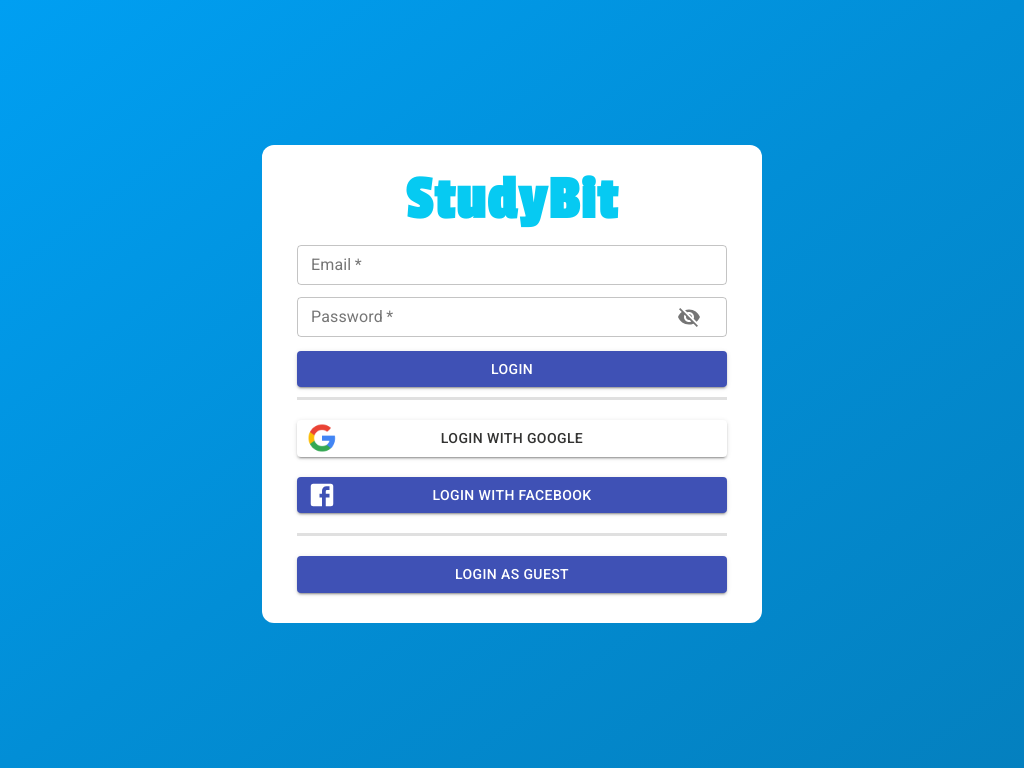
Test: AuthForm › email input › should show error when email is invalid
Type "invalidEmail.com" into the field labelled "Email *".
click(512, 265); type("invalidEmail.com")  # box x1=297 y1=245 x2=727 y2=285
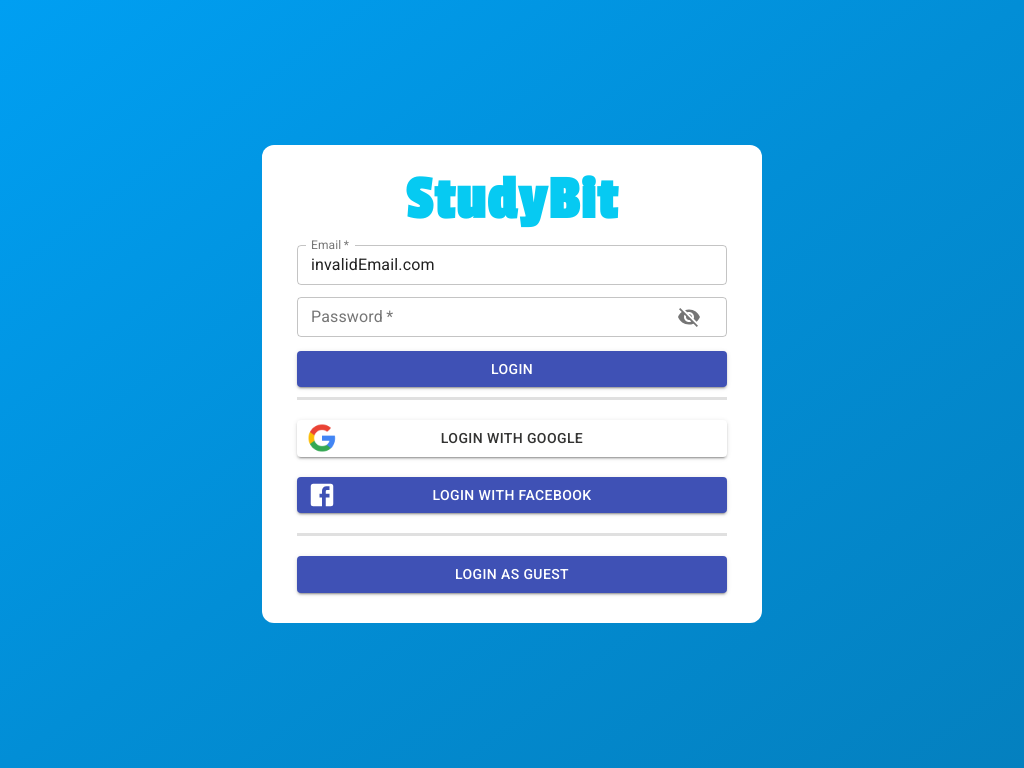
Leave the field labelled "Email *", box x1=297 y1=245 x2=727 y2=285
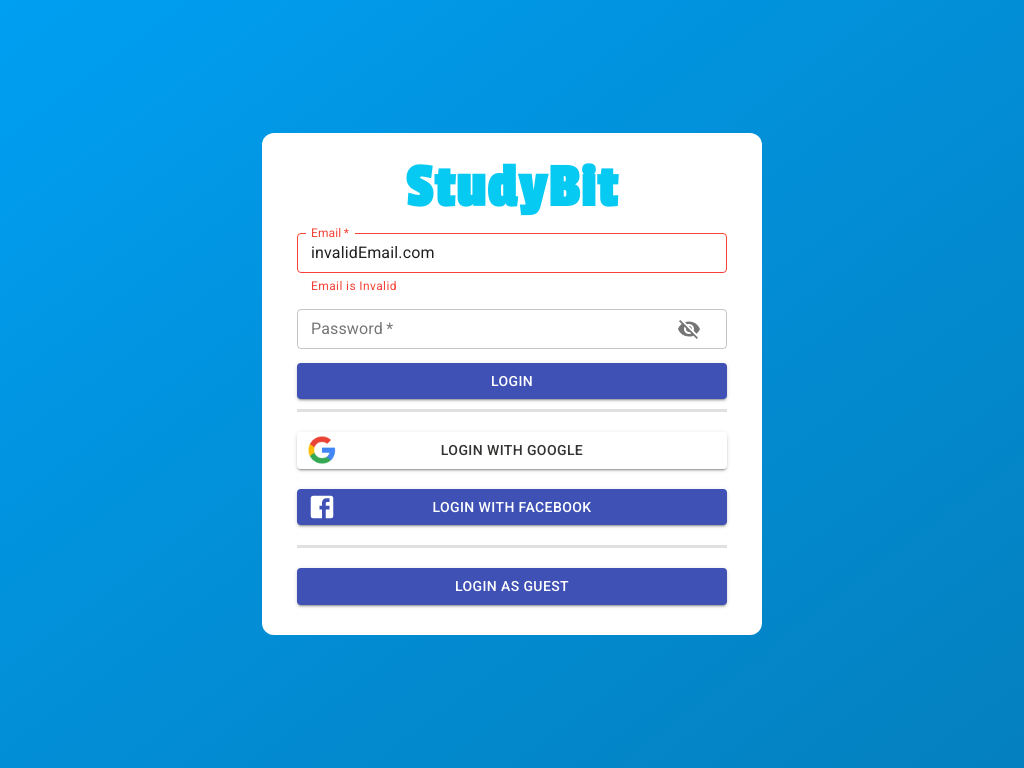
Check: the text "Email is Invalid" is shown, box x1=311 y1=279 x2=397 y2=293
